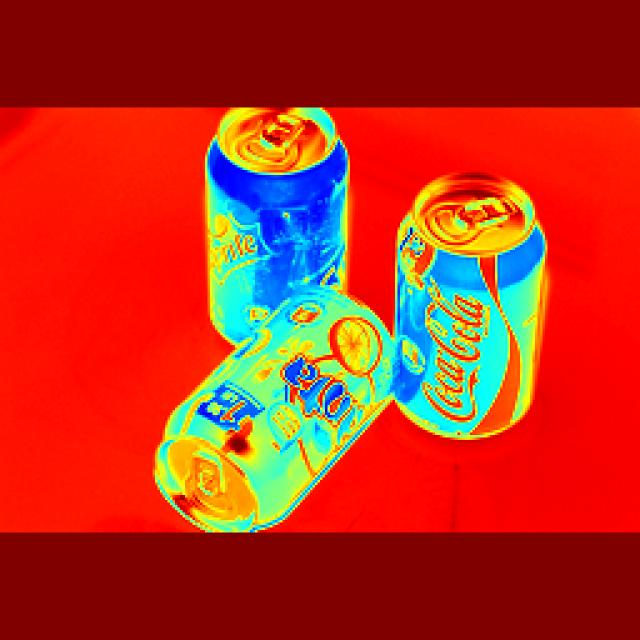Aluminium Food Cans: (208, 288, 378, 489), (392, 187, 514, 412), (206, 112, 347, 265)
